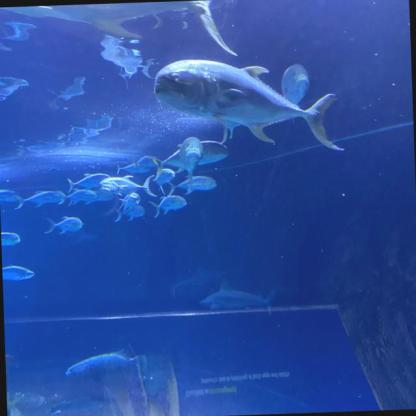fish: (151, 53, 347, 158), (65, 348, 145, 382), (163, 136, 204, 175), (100, 172, 158, 197), (114, 153, 163, 177), (14, 186, 65, 206), (66, 171, 110, 192), (44, 214, 86, 235), (148, 194, 188, 216), (169, 175, 218, 192), (61, 188, 102, 207), (2, 262, 36, 283), (115, 190, 142, 214), (0, 186, 24, 208), (113, 206, 146, 222), (0, 228, 22, 249)
shark: (0, 0, 248, 69), (200, 284, 276, 314), (170, 265, 228, 293)
